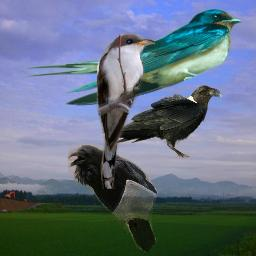Crow: (68, 145, 158, 254), (101, 84, 224, 160)
Cuckoo: (95, 32, 155, 189)
Swallow: (23, 8, 242, 107)
